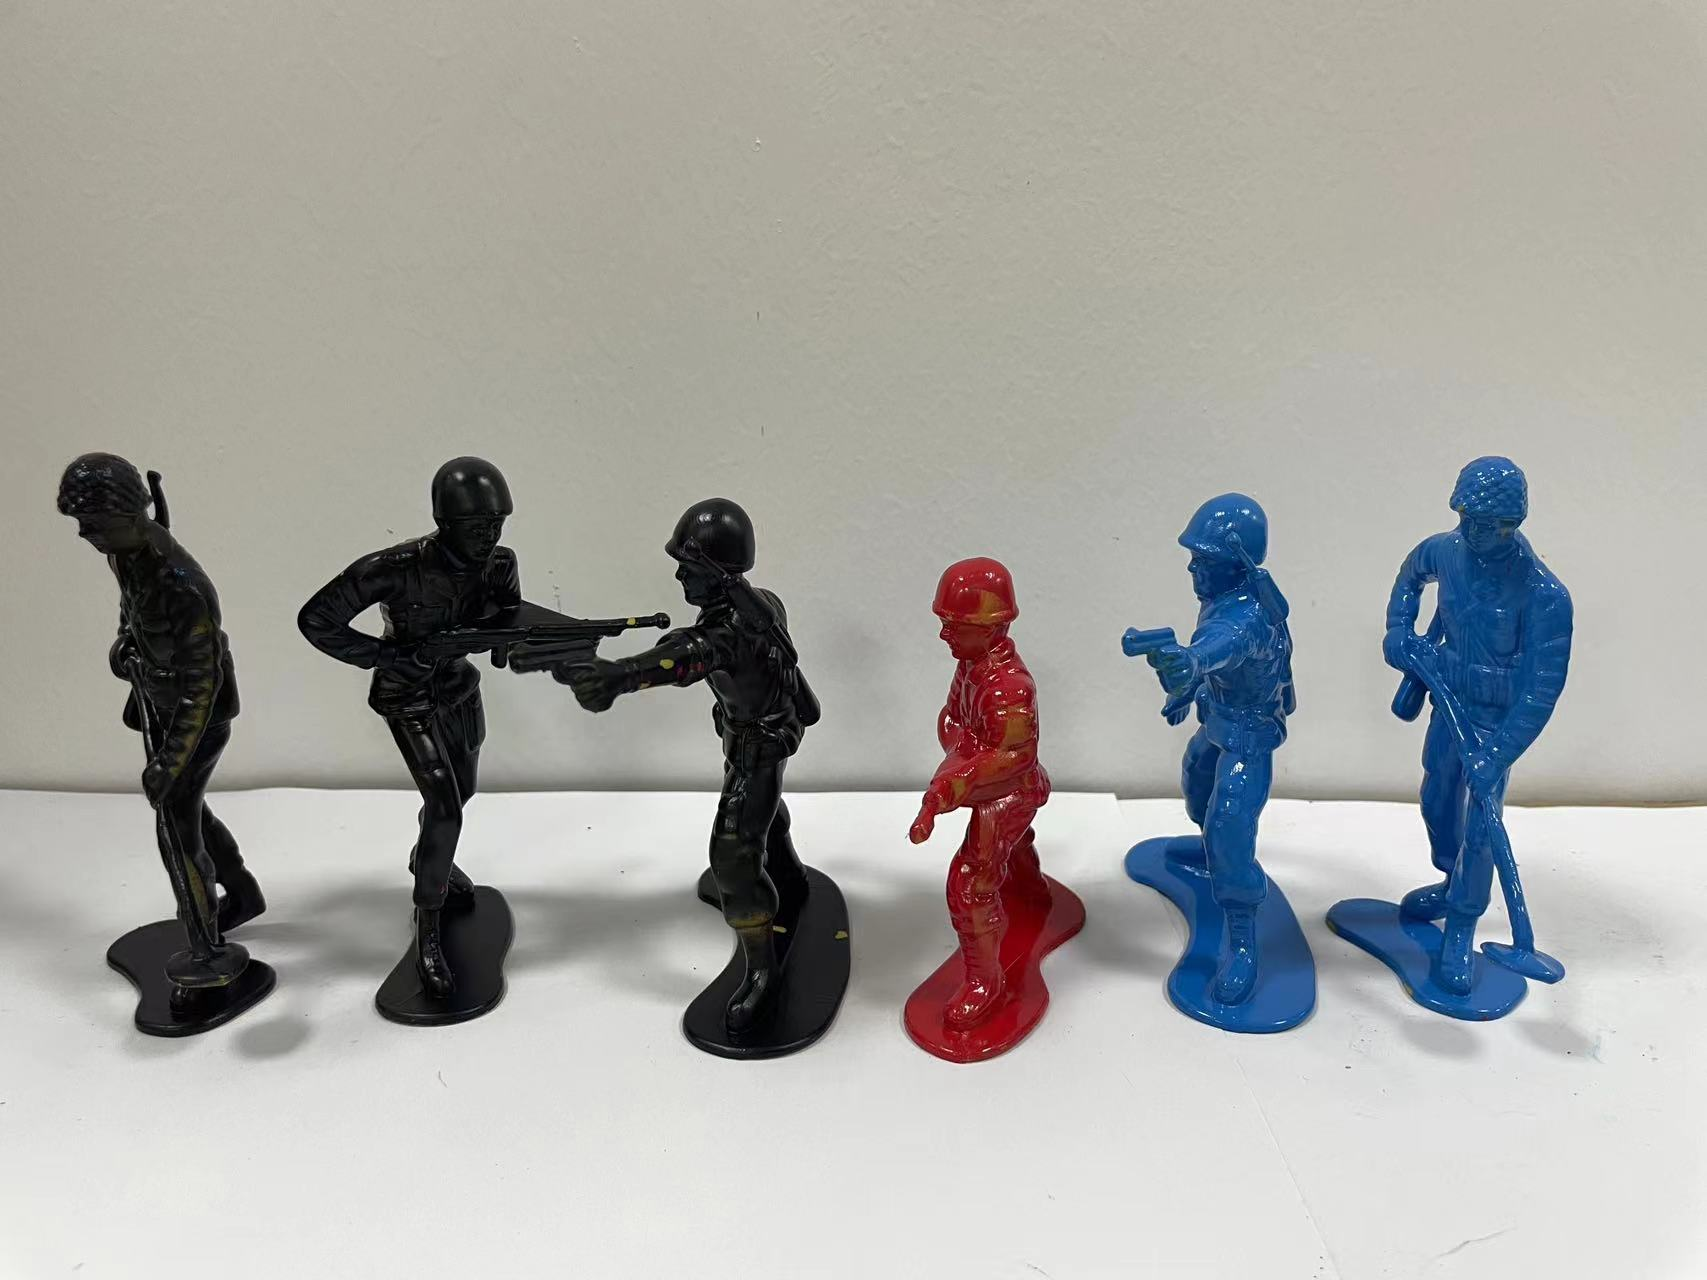black: (292, 445, 628, 1050), (571, 489, 876, 1098), (31, 421, 298, 1062)
blue: (1341, 430, 1659, 1059), (1101, 463, 1335, 1055)
red: (892, 536, 1113, 1111)
